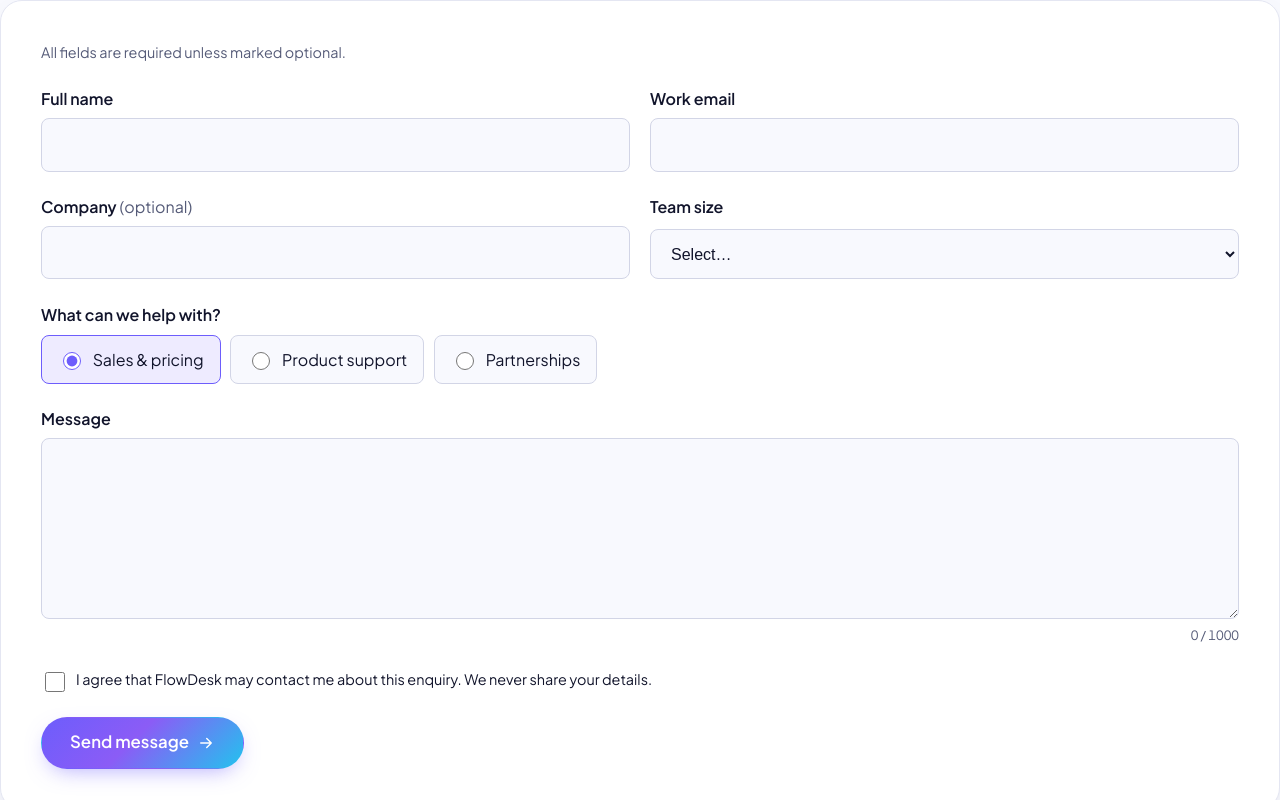
Test case: ContactForm › shows an error summary and focuses the first invalid field
Click the button "Send message": (142, 743) [41,717,244,769]
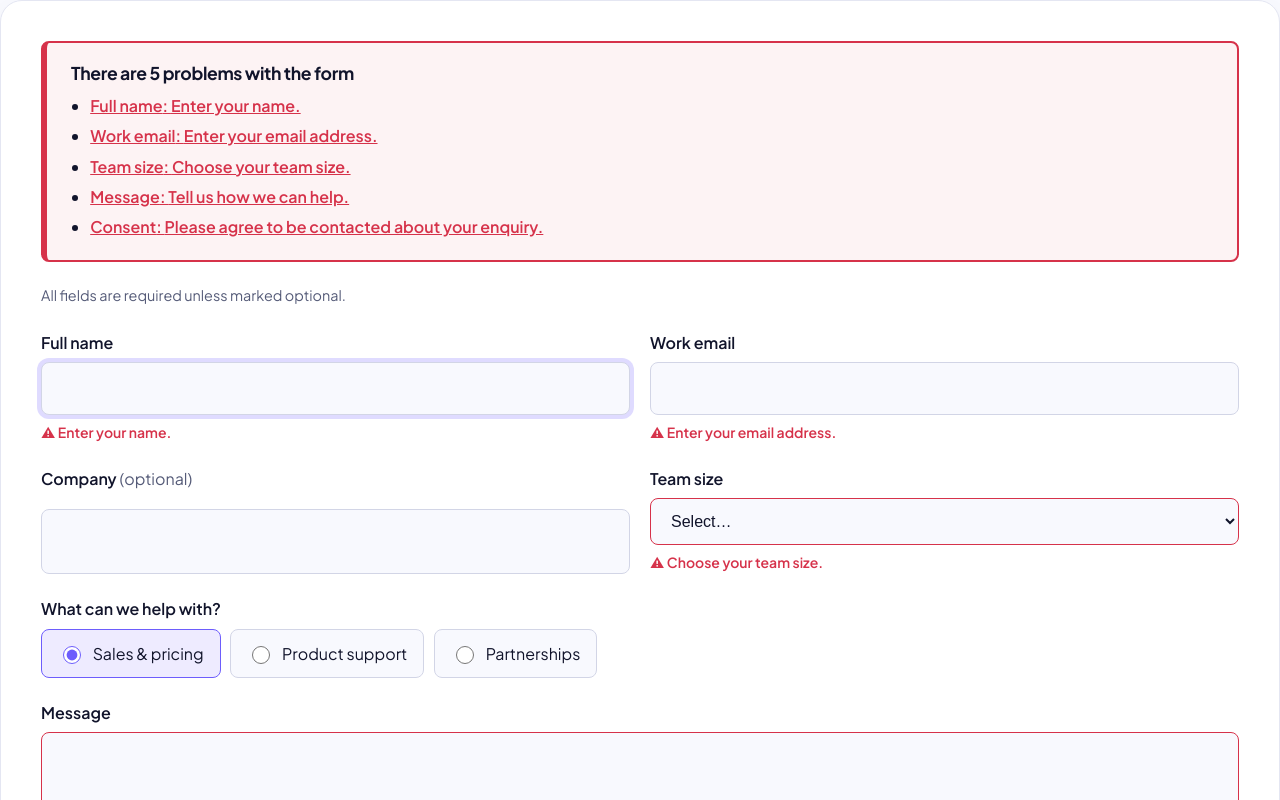
Expected: the heading "There are 5 problems with the form" is shown, [71,62,354,84]
